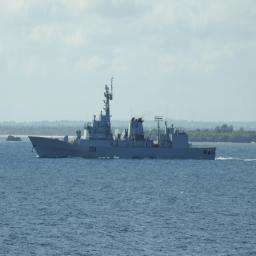Fragata: (29, 76, 219, 163)
